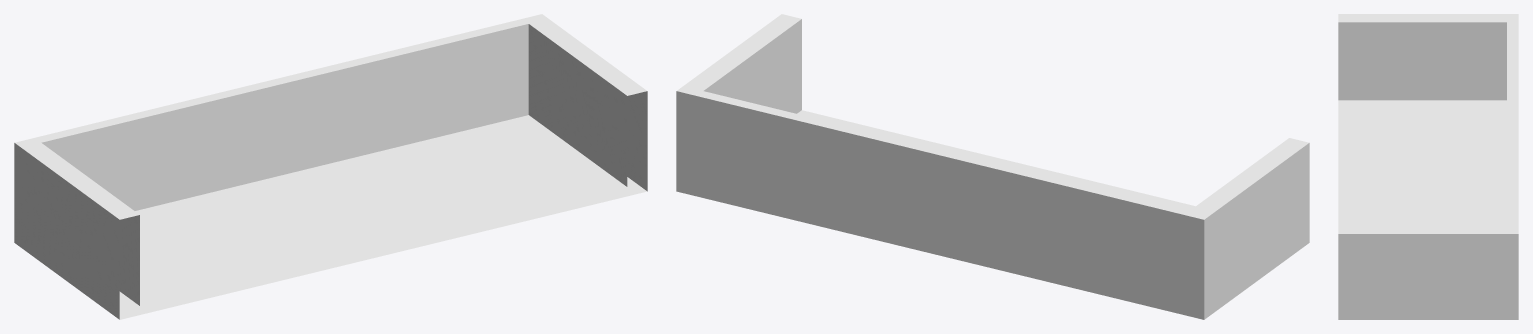
File: Itr_Obj_Fridge2_Door_Drawer2_01.FBX
The picture shows the model from 3 angles, left to right: view 1: azimuth 30°, elevation 25°; view 2: azimuth 150°, elevation 25°; view 3: azimuth 270°, elevation 25°; orthographic projection. The views are drawn at different scales.
Parts seen in each view (by area): view 1: Itr_Obj_Fridge2_Door_Drawer2_01; view 2: Itr_Obj_Fridge2_Door_Drawer2_01; view 3: Itr_Obj_Fridge2_Door_Drawer2_01.
Boxes of the visible parts, left/top/right/bottom form: Itr_Obj_Fridge2_Door_Drawer2_01: left=14, top=14, right=647, bottom=319; Itr_Obj_Fridge2_Door_Drawer2_01: left=676, top=14, right=1309, bottom=319; Itr_Obj_Fridge2_Door_Drawer2_01: left=1338, top=14, right=1518, bottom=319.
Bounding box in the file's own units: 25.4 × 4.62 × 8.78.
